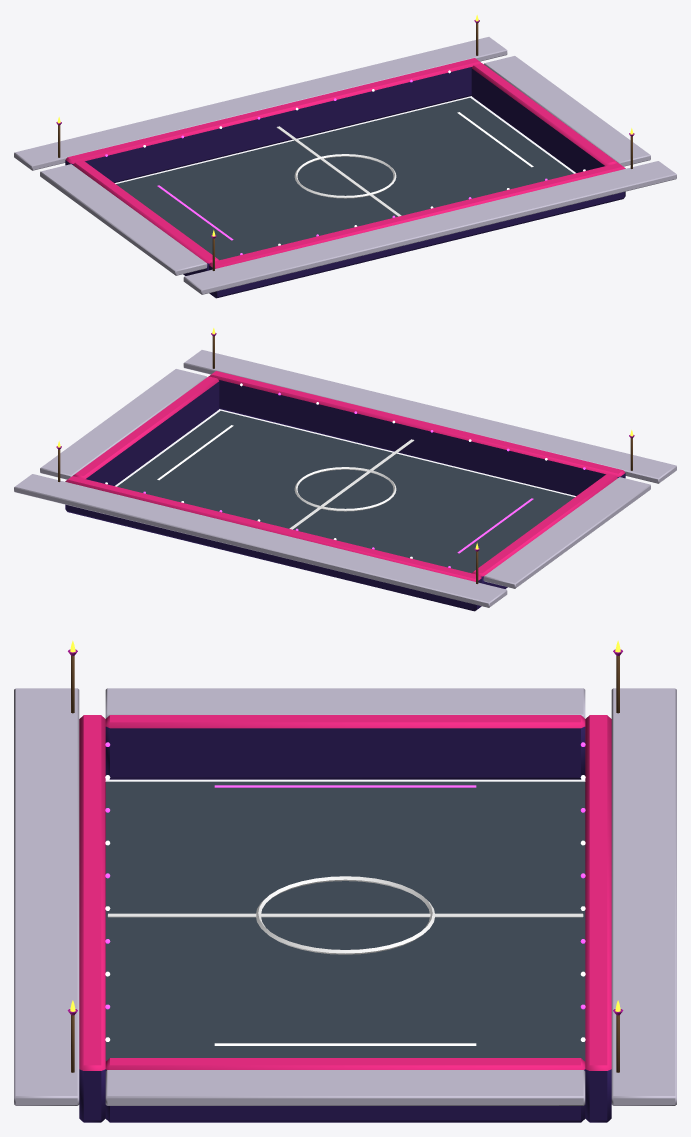
File: GoalArena.fbx
3 renders of one model, top to bottom at view 1: azimuth 30°, elevation 25°; view 2: azimuth 150°, elevation 25°; view 3: azimuth 270°, elevation 25°, orthographic. The views are drawn at different scales.
Visible parts, largest first — view 1: GoalArena; view 2: GoalArena; view 3: GoalArena.
Boxes of the visible parts, bbox=[...] form: GoalArena: bbox=[14, 15, 676, 298]; GoalArena: bbox=[14, 328, 676, 611]; GoalArena: bbox=[14, 640, 676, 1122].
Size of the model in its own units: 44.4 by 6.55 by 30.4.
